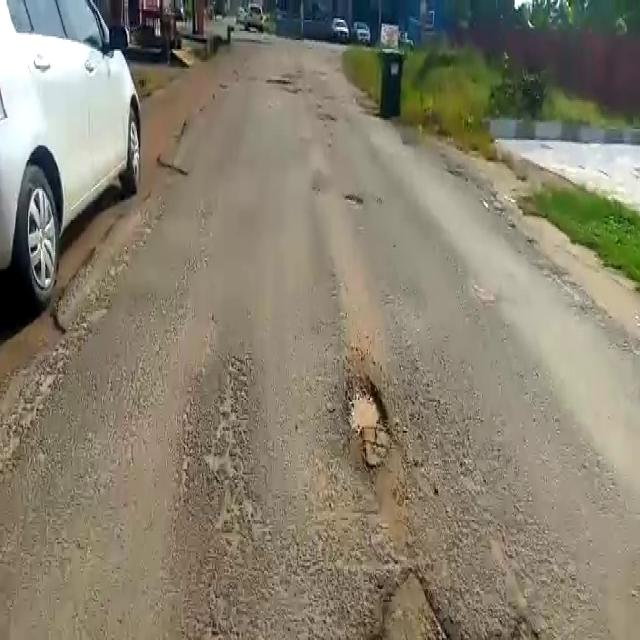Pothole: (376, 562, 560, 638), (342, 378, 389, 467)
